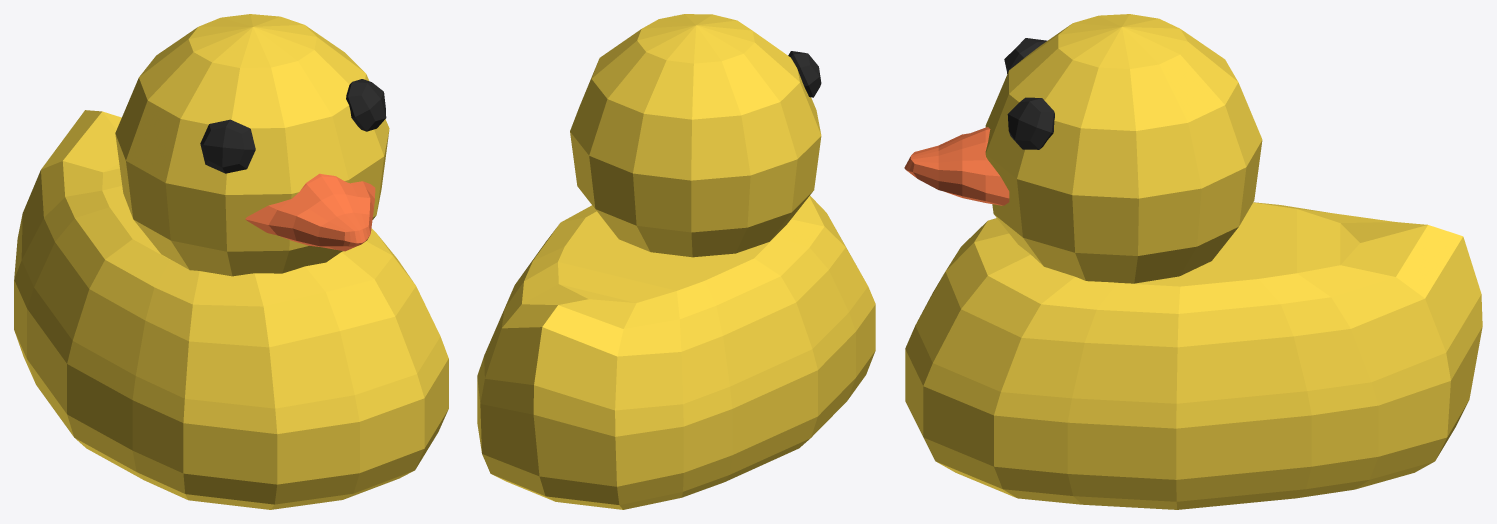
The model's file is duck_0528.fbx.
3 views of the same model, side by side, from view 1: azimuth 30°, elevation 25°; view 2: azimuth 150°, elevation 25°; view 3: azimuth 270°, elevation 25° (orthographic). The views are drawn at different scales.
Visible parts, largest first — view 1: Sphere001; view 2: Sphere001; view 3: Sphere001.
Boxes of the visible parts, x1,y1,x2,y2 form: Sphere001: [14, 14, 448, 509]; Sphere001: [477, 14, 875, 509]; Sphere001: [904, 14, 1482, 509].
Bounding box in the file's own units: 39.2 × 47.9 × 60.66.
Materials: 1 (1 with a texture image).
